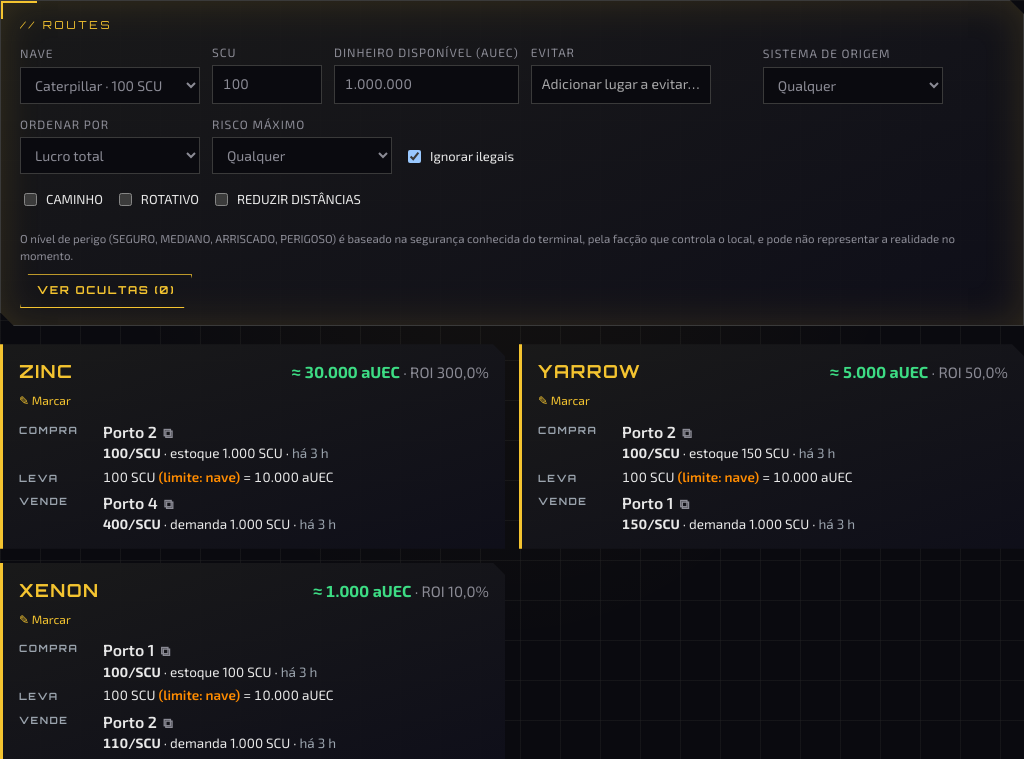
Test: CAMINHO, ROTATIVO e REDUZIR DISTÂNCIAS › CAMINHO mostra trechos encadeados: a venda de um é a compra do próximo
The image size is (1024, 759).
Click the checkbox labelled "CAMINHO": (30, 200) x1=24 y1=193 x2=37 y2=206
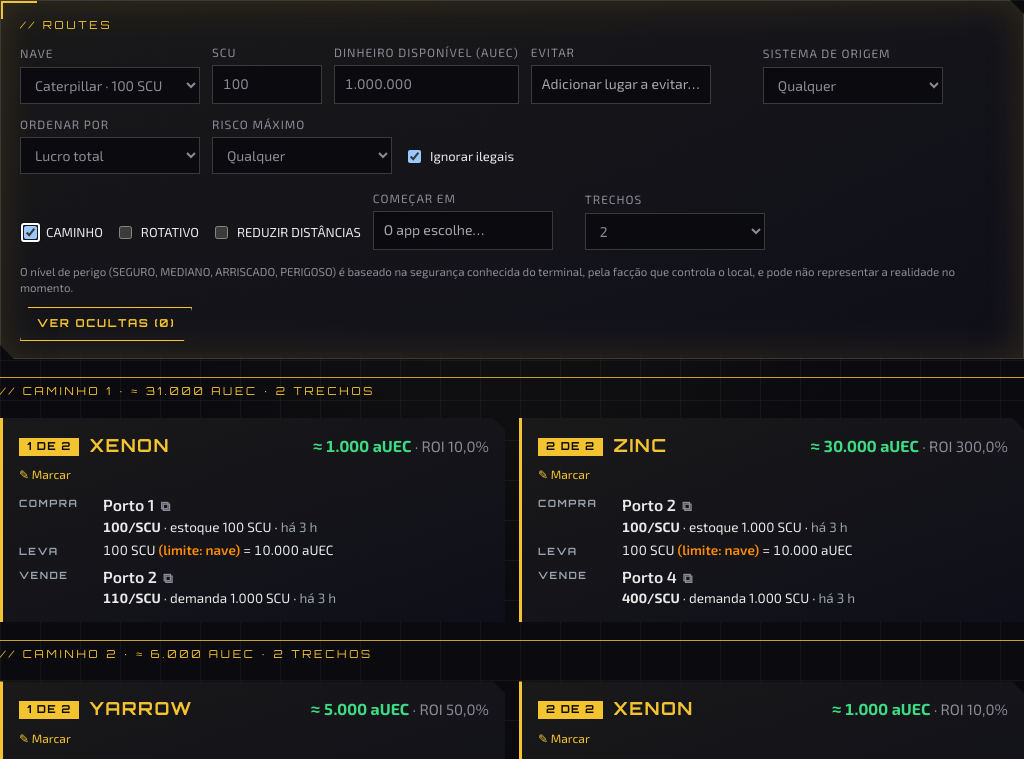
Check: the dropdown named "Começar em" is shown, box x1=373 y1=211 x2=553 y2=250
Check: the element that starts with "1 de 2" is shown, box x1=27 y1=439 x2=71 y2=453
Check: the element that starts with "2 de 2" is shown, box x1=546 y1=439 x2=595 y2=453
